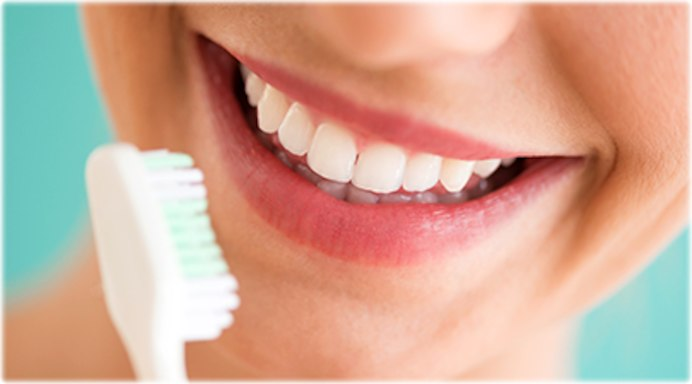shoot: (194, 27, 594, 265)
